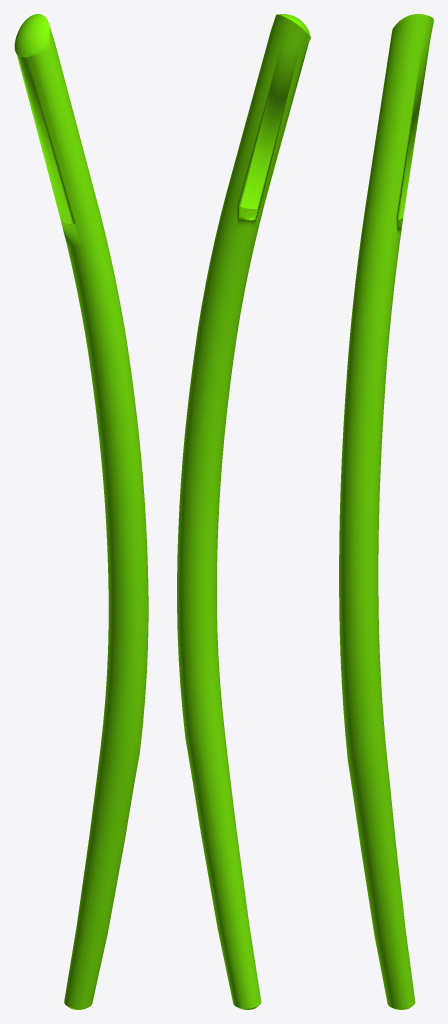
File: chair_027_02.obj
3 views of the same model, side by side, from view 1: azimuth 30°, elevation 25°; view 2: azimuth 210°, elevation 25°; view 3: azimuth 270°, elevation 25° (orthographic).
Size of the model in its own units: 93.79 by 873 by 76.84.
